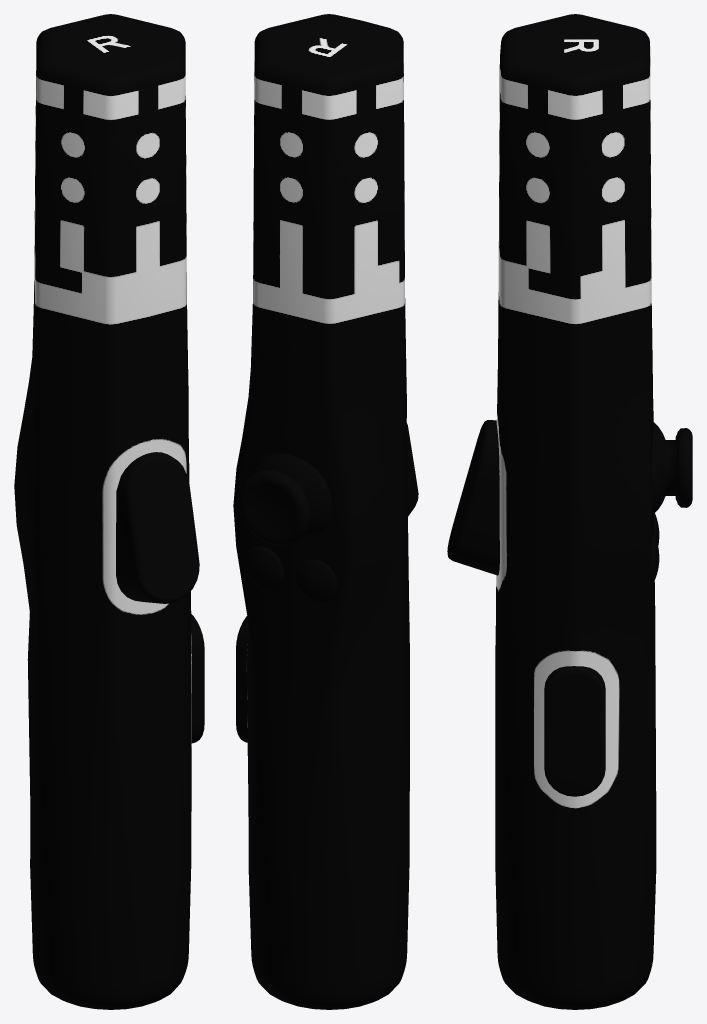
File: Zapbox_Controller_Right.fbx
3 renders of one model, left to right at view 1: azimuth 30°, elevation 25°; view 2: azimuth 150°, elevation 25°; view 3: azimuth 270°, elevation 25°, orthographic.
Visible parts, largest first — view 1: Right_Control_Body, Right_Control_Button_Trigger, Right_Control_Button_Grip; view 2: Right_Control_Body, Right_Control_JoyStick, Right_Control_Button_A, Right_Control_Button_Grip, Right_Control_Button_B, Right_Control_Button_Trigger; view 3: Right_Control_Body, Right_Control_Button_Grip, Right_Control_Button_Trigger, Right_Control_JoyStick.
Part boxes in pixels (bbox=[...]): Right_Control_Body: bbox=[14, 14, 191, 1009]; Right_Control_Button_Trigger: bbox=[116, 452, 199, 603]; Right_Control_Button_Grip: bbox=[191, 614, 204, 743]; Right_Control_Body: bbox=[233, 14, 409, 1009]; Right_Control_JoyStick: bbox=[238, 453, 331, 545]; Right_Control_Button_A: bbox=[295, 559, 337, 602]; Right_Control_Button_Grip: bbox=[236, 616, 248, 742]; Right_Control_Button_B: bbox=[244, 546, 283, 590]; Right_Control_Button_Trigger: bbox=[406, 423, 418, 516]; Right_Control_Body: bbox=[495, 14, 656, 1009]; Right_Control_Button_Grip: bbox=[544, 666, 605, 796]; Right_Control_Button_Trigger: bbox=[447, 420, 499, 575]; Right_Control_JoyStick: bbox=[652, 422, 692, 513].
Size of the model in its own units: 348 by 2027 by 478.
Materials: 1 (1 with a texture image).
